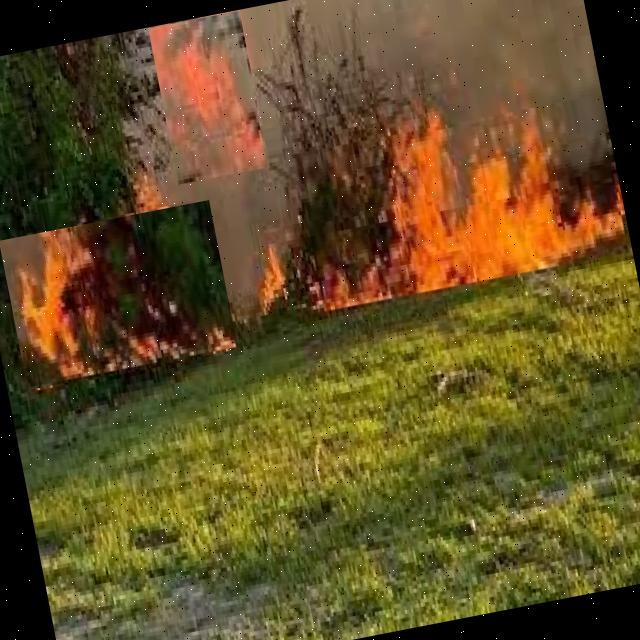fire: (294, 98, 628, 314), (0, 200, 238, 390), (148, 11, 270, 186), (248, 234, 288, 310)
